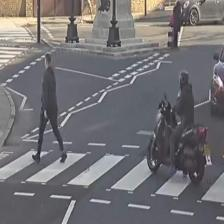person: (31, 54, 67, 162), (167, 69, 194, 177)
